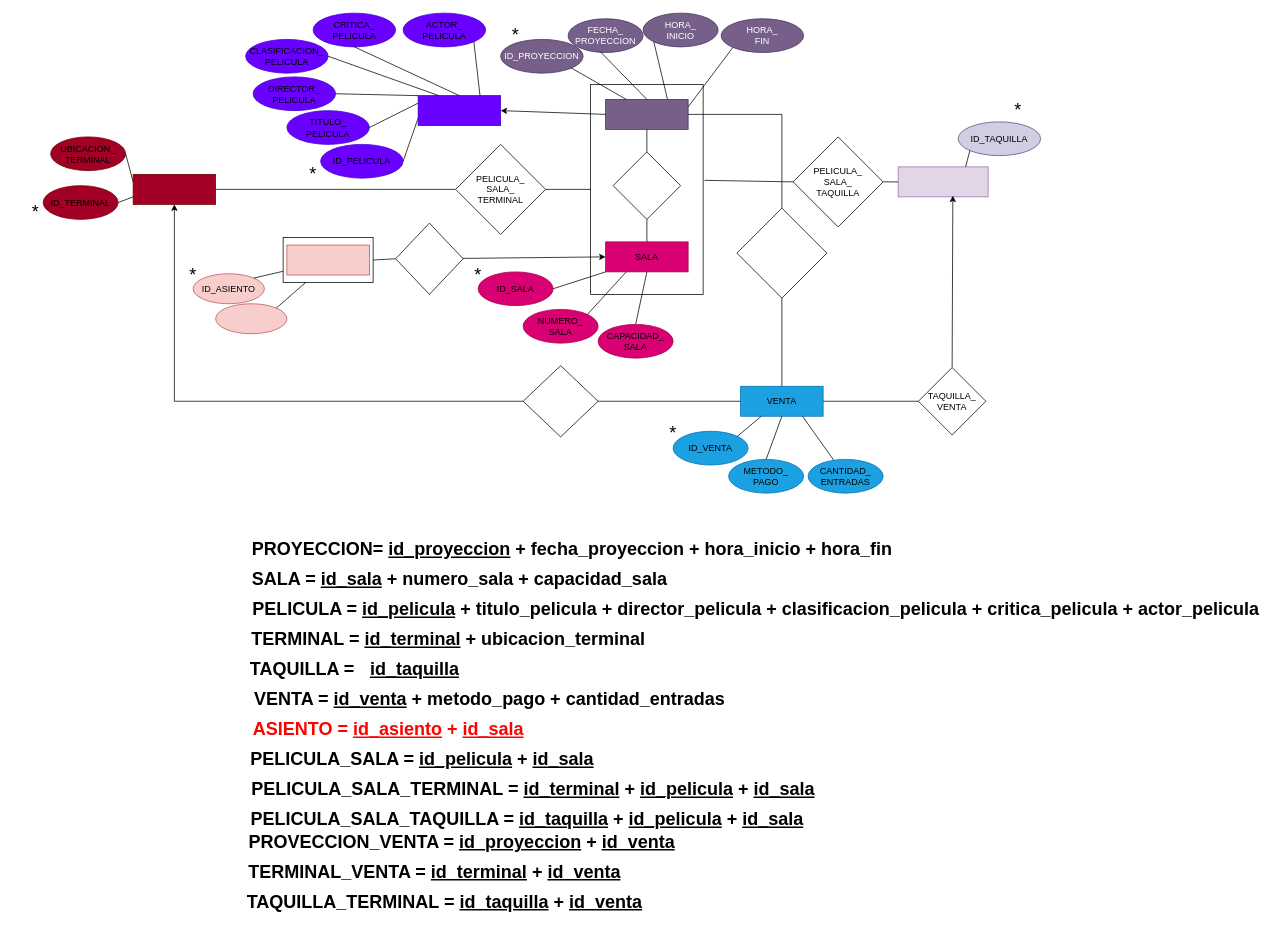
This 1271x930 diagram has some shape labels left out. Each missing label, with the centre of its shape:
"ASIENTO" goes at point 327,259.
"BITACORA" goes at point 429,258.
"ESTADO_ ASIENTO" goes at point 251,318.
"PELICULA" goes at point 459,110.
"PELICULA_ SALA" goes at point 646,185.
"PROYECCION" goes at point 646,114.
"PROYECCION_ VENTA" goes at point 781,252.
"TAQUILLA" goes at point 942,181.
"TERMINAL" goes at point 174,189.
"TERMINAL_ VENTA" goes at point 560,401.
